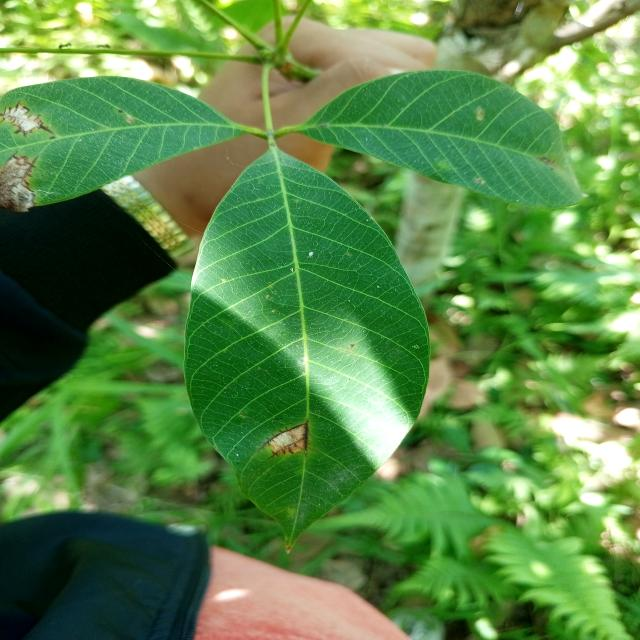Corynespora: (0, 100, 55, 136), (258, 424, 302, 451), (17, 156, 38, 186), (268, 442, 297, 460), (301, 421, 310, 453)
Leaf-Blight: (0, 156, 34, 211), (270, 425, 306, 454)
